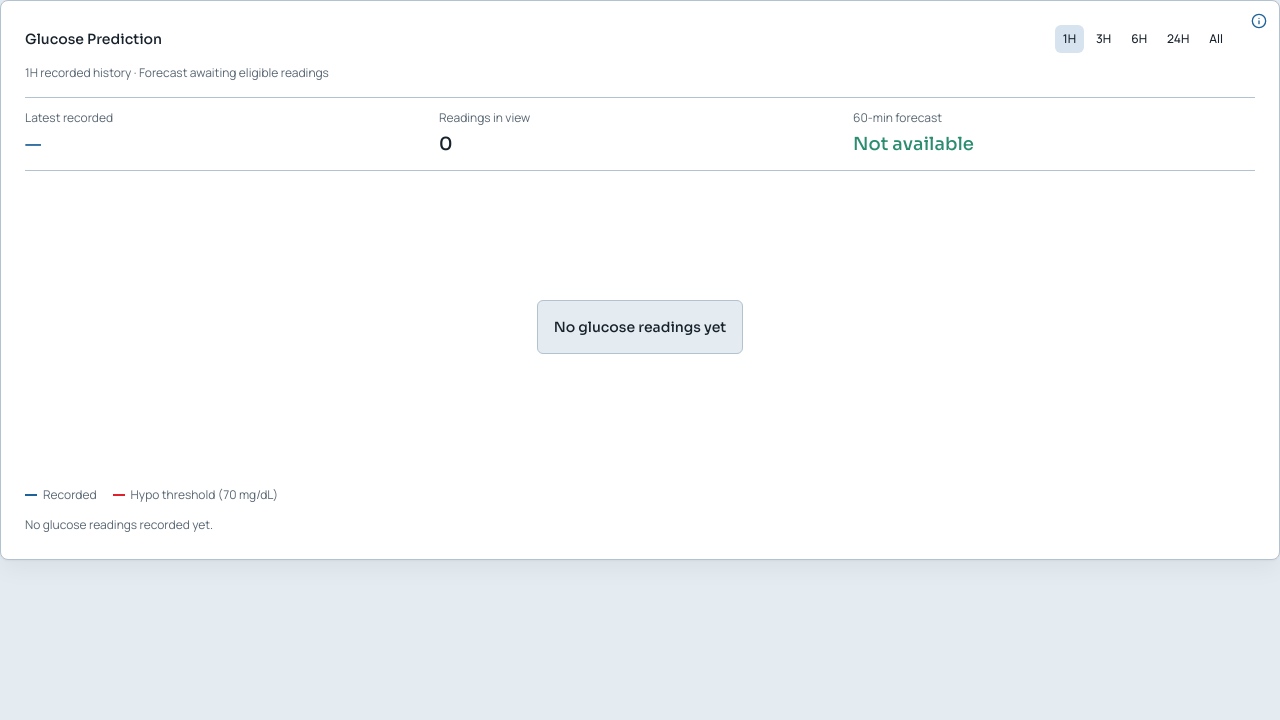
Scenario: glucose prediction information › opens and closes the explanation without a missing trigger reference
What coordinates should you click on to do the following:
click the button named "How glucose prediction is calculated"
I would click on:
 (1259, 21)
Its box is [1243,5,1275,37].
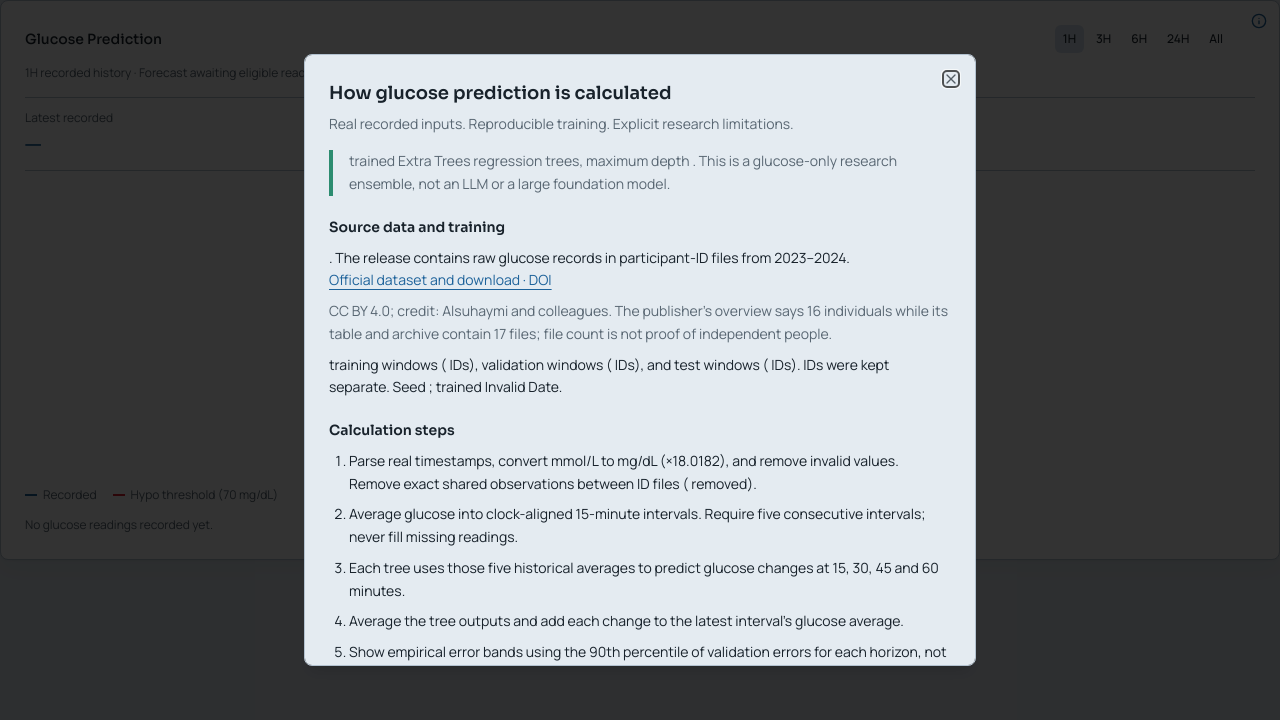
Result: the dialog is shown at [304,54,976,666]
What coordinates should you click on to do the following:
click the button named "Close"
I would click on:
 (951, 79)
Its box is [943,71,959,87].
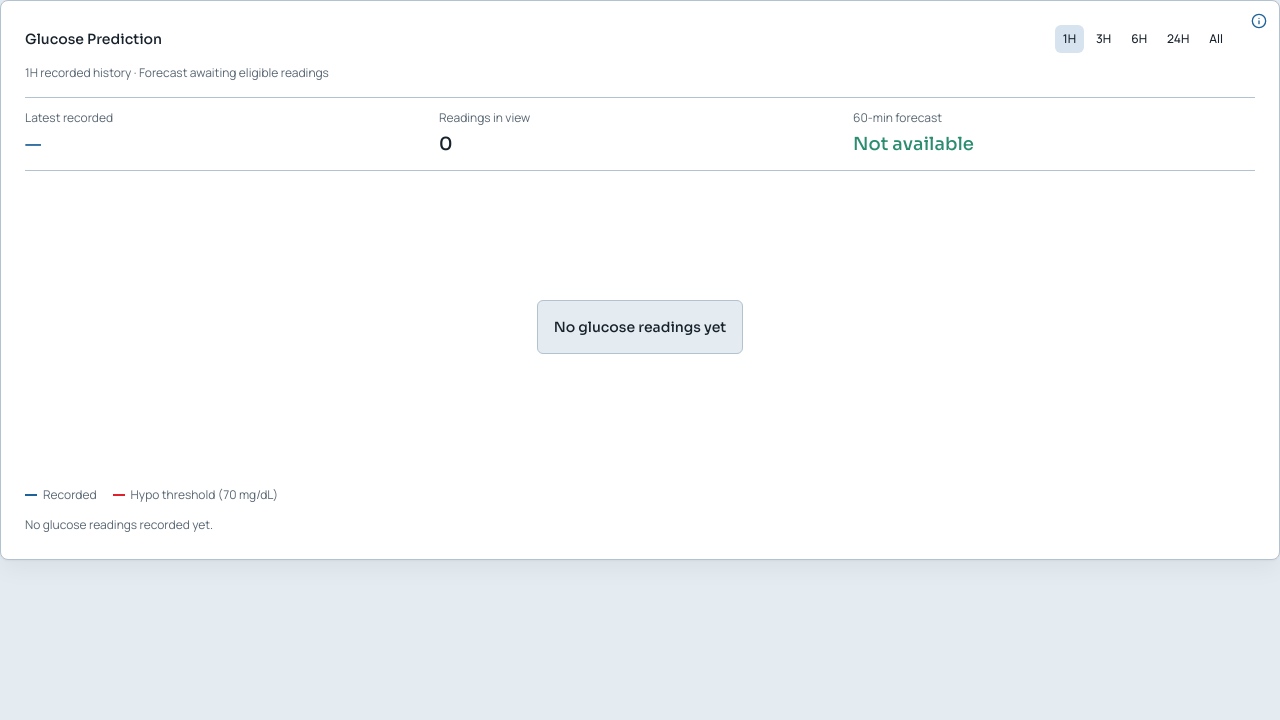
Result: the dialog is gone
